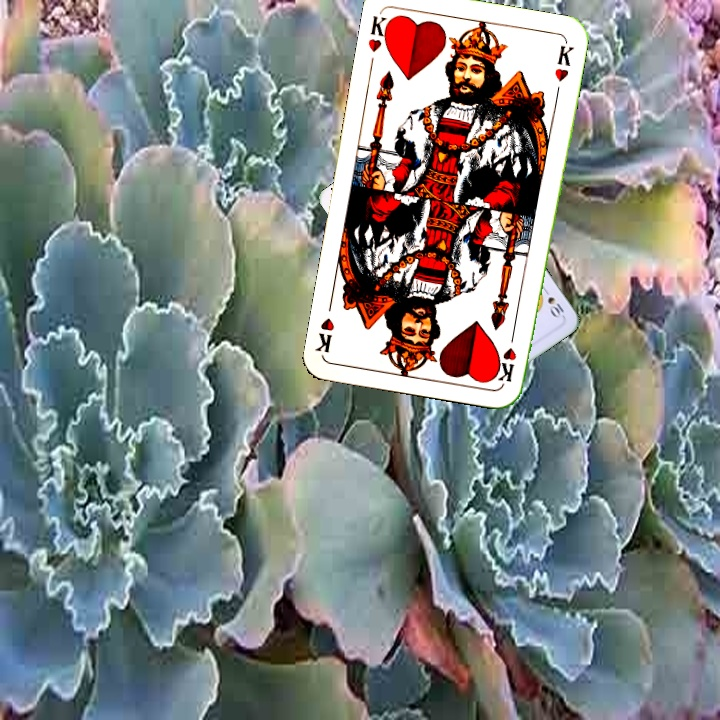HK: (494, 326, 519, 385), (364, 12, 395, 55)
S10: (539, 283, 567, 321)
